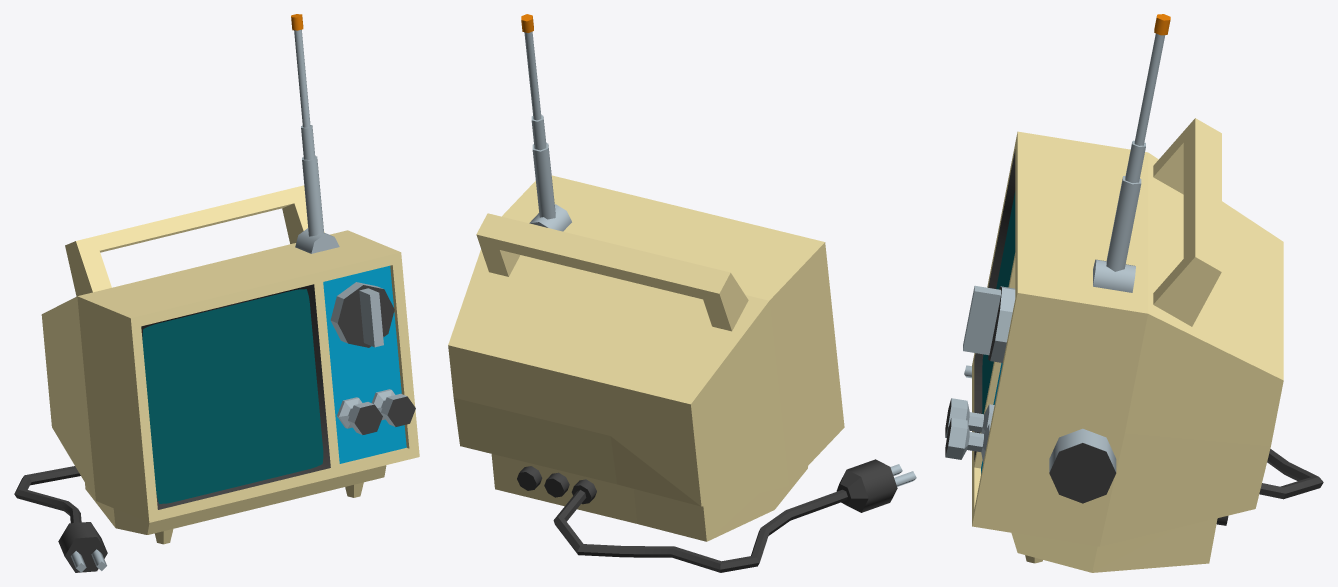
File: ElectronicTv.glb
3 views of the same model, side by side, from view 1: azimuth 30°, elevation 25°; view 2: azimuth 150°, elevation 25°; view 3: azimuth 270°, elevation 25° (orthographic). The views are drawn at different scales.
Visible parts, largest first — view 1: Box10783, Plane016, Box10786, Cylinder501, Line170, Cylinder451, Cylinder452, Cylinder450; view 2: Box10783, Box10786, Line170, Cylinder501, Cylinder451, Cylinder452; view 3: Box10783, Box10786, Cylinder455, Cylinder451, Line170, Plane016, Cylinder452, Cylinder450, Cylinder454.
Boxes of the visible parts, x1,y1,x2,y2 form: Box10783: (41, 230, 419, 544); Plane016: (142, 289, 323, 503); Box10786: (65, 185, 324, 296); Cylinder501: (58, 522, 107, 572); Line170: (14, 466, 81, 523); Cylinder451: (302, 156, 323, 236); Cylinder452: (294, 29, 310, 127); Cylinder450: (295, 228, 339, 253); Box10783: (448, 175, 844, 541); Box10786: (476, 213, 748, 331); Line170: (553, 489, 847, 572); Cylinder501: (836, 459, 916, 512); Cylinder451: (532, 143, 555, 219); Cylinder452: (524, 31, 541, 120); Box10783: (945, 131, 1283, 572); Box10786: (1153, 118, 1221, 326); Cylinder455: (1049, 428, 1116, 503); Cylinder451: (1106, 176, 1141, 271); Line170: (1259, 449, 1323, 499); Plane016: (982, 191, 1015, 414); Cylinder452: (1134, 33, 1165, 145); Cylinder450: (1093, 259, 1135, 292); Cylinder454: (1125, 140, 1145, 182).
Bounding box in the file's own units: 0.7689 × 0.8943 × 0.5641.
